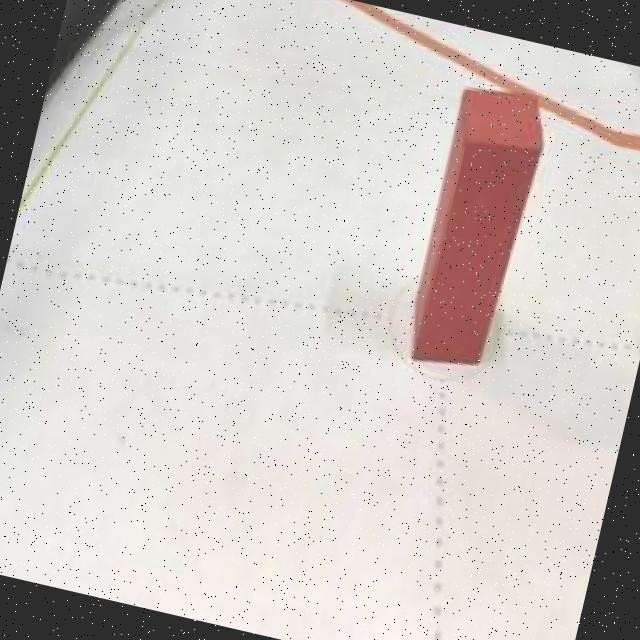redbox: (398, 75, 556, 380)
